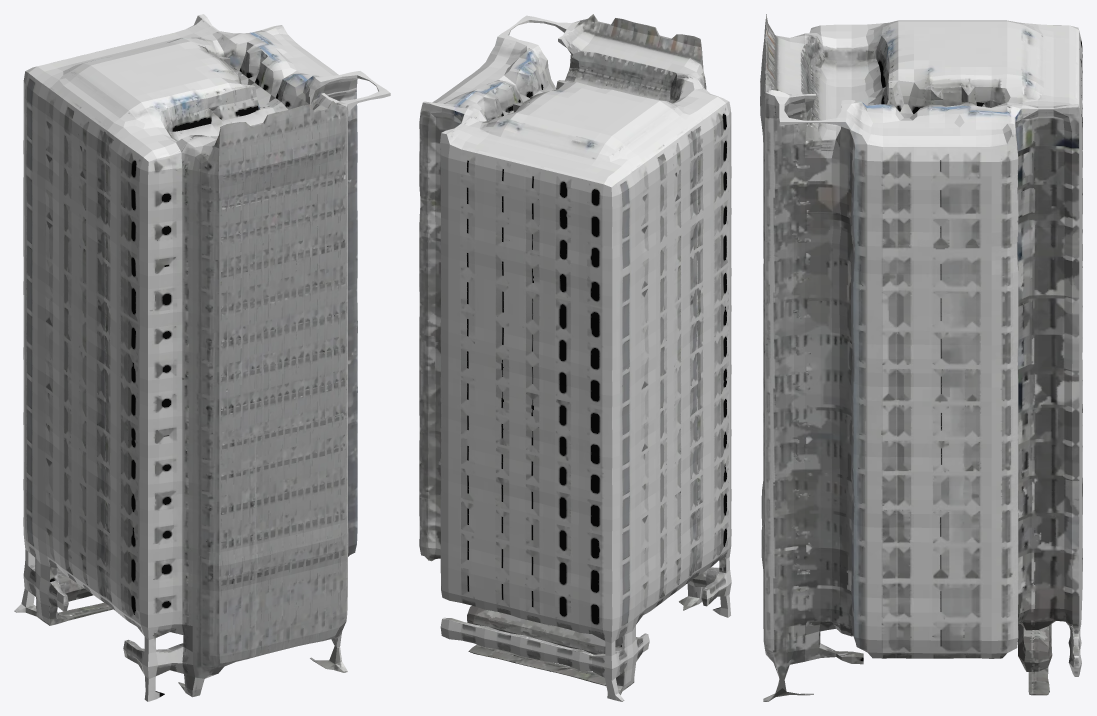
The model's file is midwhite.glb.
The picture shows the model from 3 angles, left to right: view 1: azimuth 30°, elevation 25°; view 2: azimuth 150°, elevation 25°; view 3: azimuth 270°, elevation 25°; orthographic projection. The views are drawn at different scales.
Parts seen in each view (by area): view 1: Body; view 2: Body; view 3: Body.
Boxes of the visible parts, x1=… form: Body: x1=14, y1=14, x2=390, y2=701; Body: x1=419, y1=14, x2=731, y2=701; Body: x1=760, y1=14, x2=1082, y2=701.
Bounding box in the file's own units: 19.82 × 44.4 × 20.78.
1 material, 1 textured.
